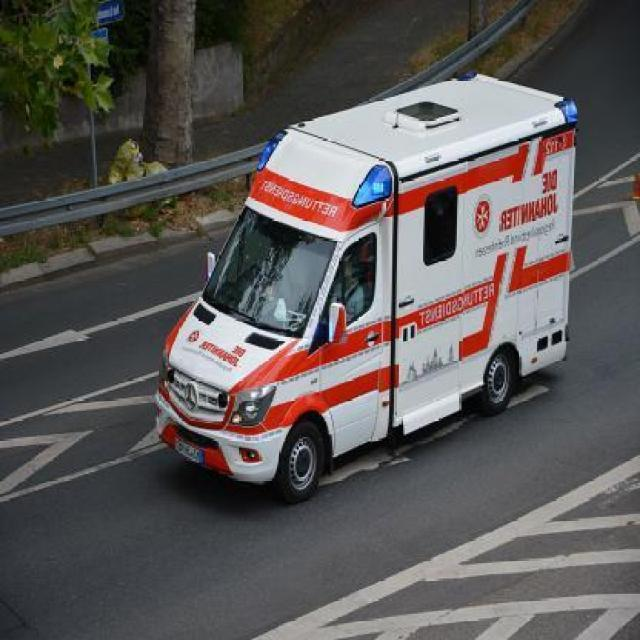emergency: (150, 71, 578, 505)
